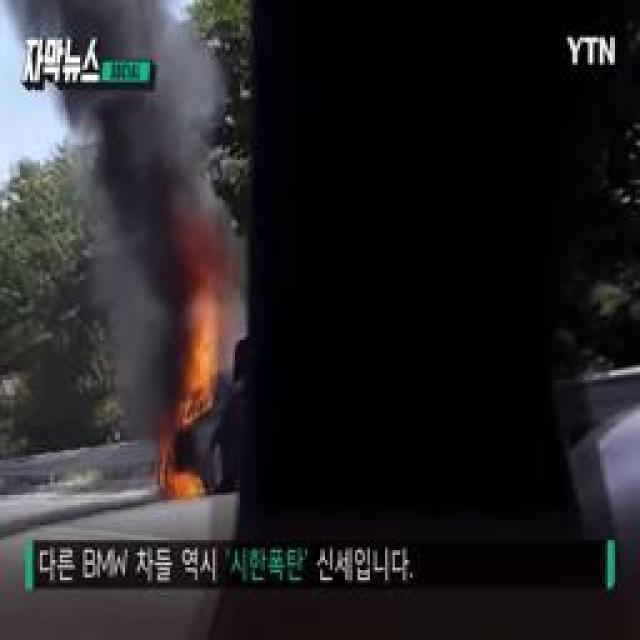Fire: (178, 326, 226, 426), (167, 465, 214, 501)
